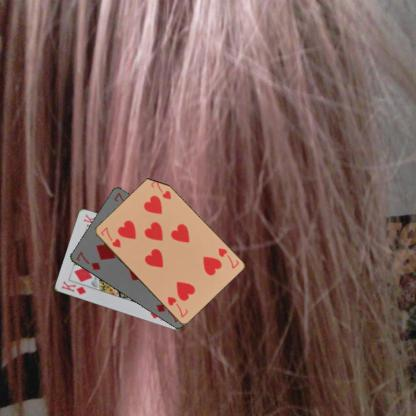7d: (73, 249, 102, 272)
7h: (215, 245, 240, 270), (98, 224, 122, 249)
Kd: (59, 278, 87, 296)
